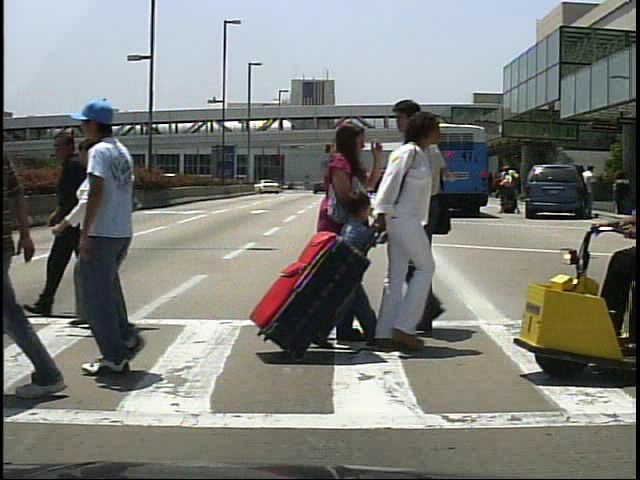person: (69, 105, 177, 388), (370, 98, 489, 350), (351, 118, 454, 369), (312, 121, 382, 357), (68, 137, 133, 331), (44, 129, 102, 322), (326, 181, 374, 319), (582, 164, 602, 218), (498, 166, 516, 219), (503, 165, 522, 215)
